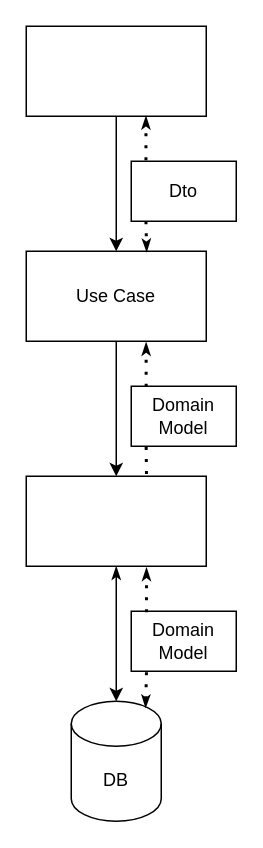
Some shapes in this 263 by 848 pixel diagram are drawn without their labels. Each missing label, with the box of its shape:
Controller: (25, 25, 206, 116)
Repository: (25, 475, 206, 566)
